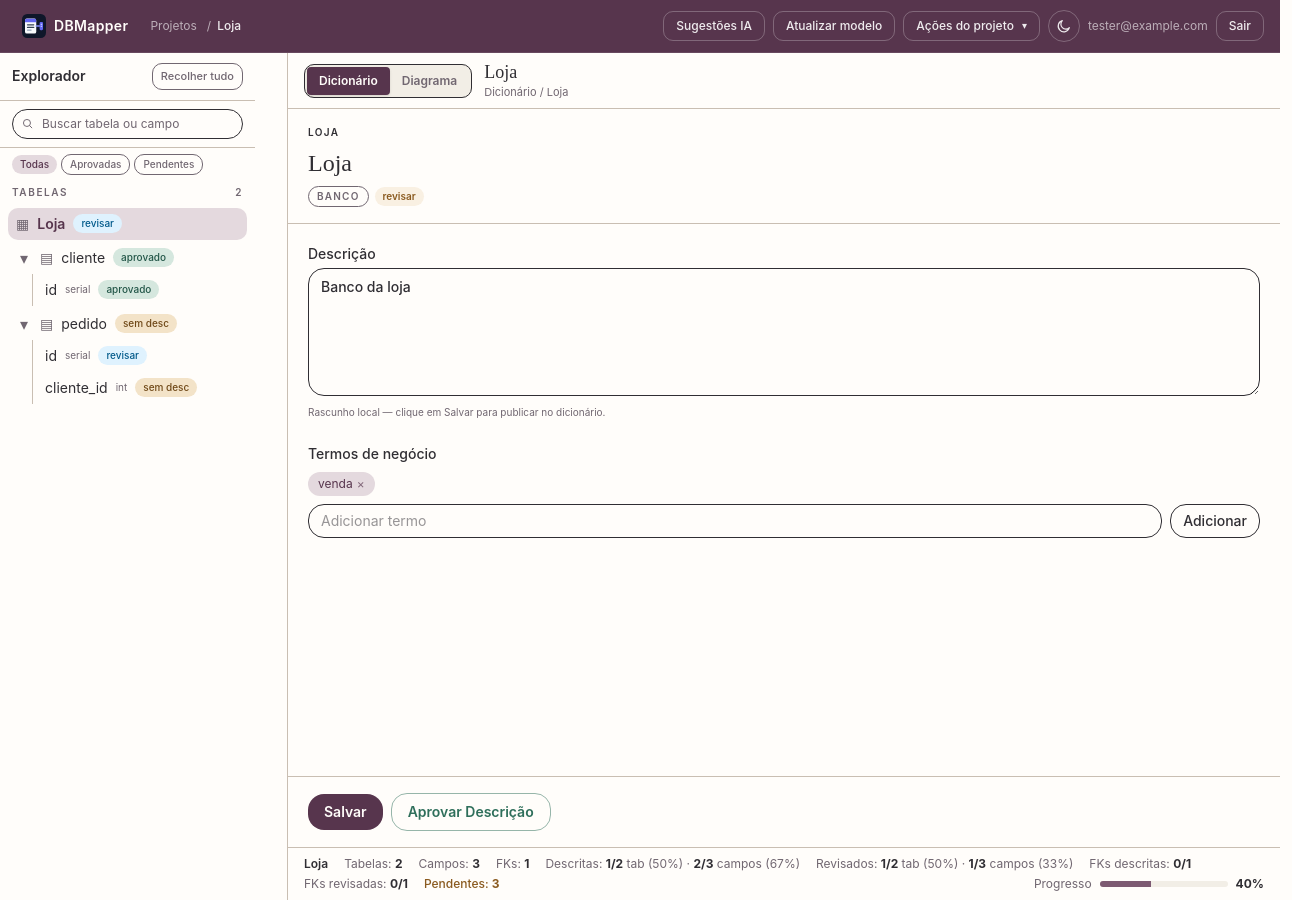
Scenario: WorkspacePage › alterna Editor/Diagrama mantendo o StatusBar e abre o editor na seleção
This screenshot has width=1292, height=900.
Check: the button with test id "table-row-cliente" is shown, box [40,242,247,274]
Click the button with test id "view-diagram". click: (430, 80)
box: [390,66,469,94]
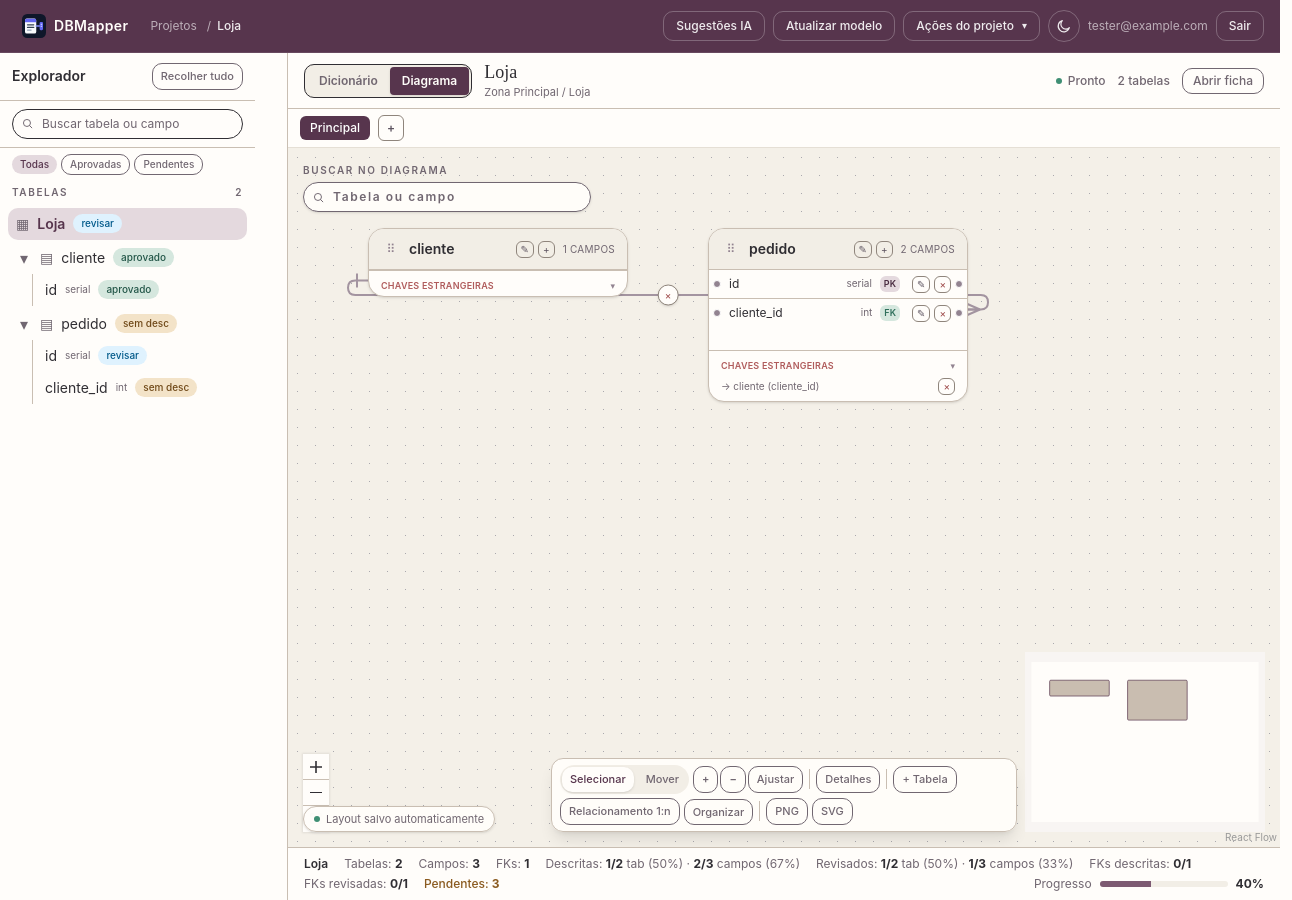
Check: the element with test id "coverage-tables" is shown, box [344,856,402,872]
Check: the element with test id "diagram-canvas" is shown
Click the button with test id "column-row-pedido-id". click: (142, 356)
box: [37,340,247,372]
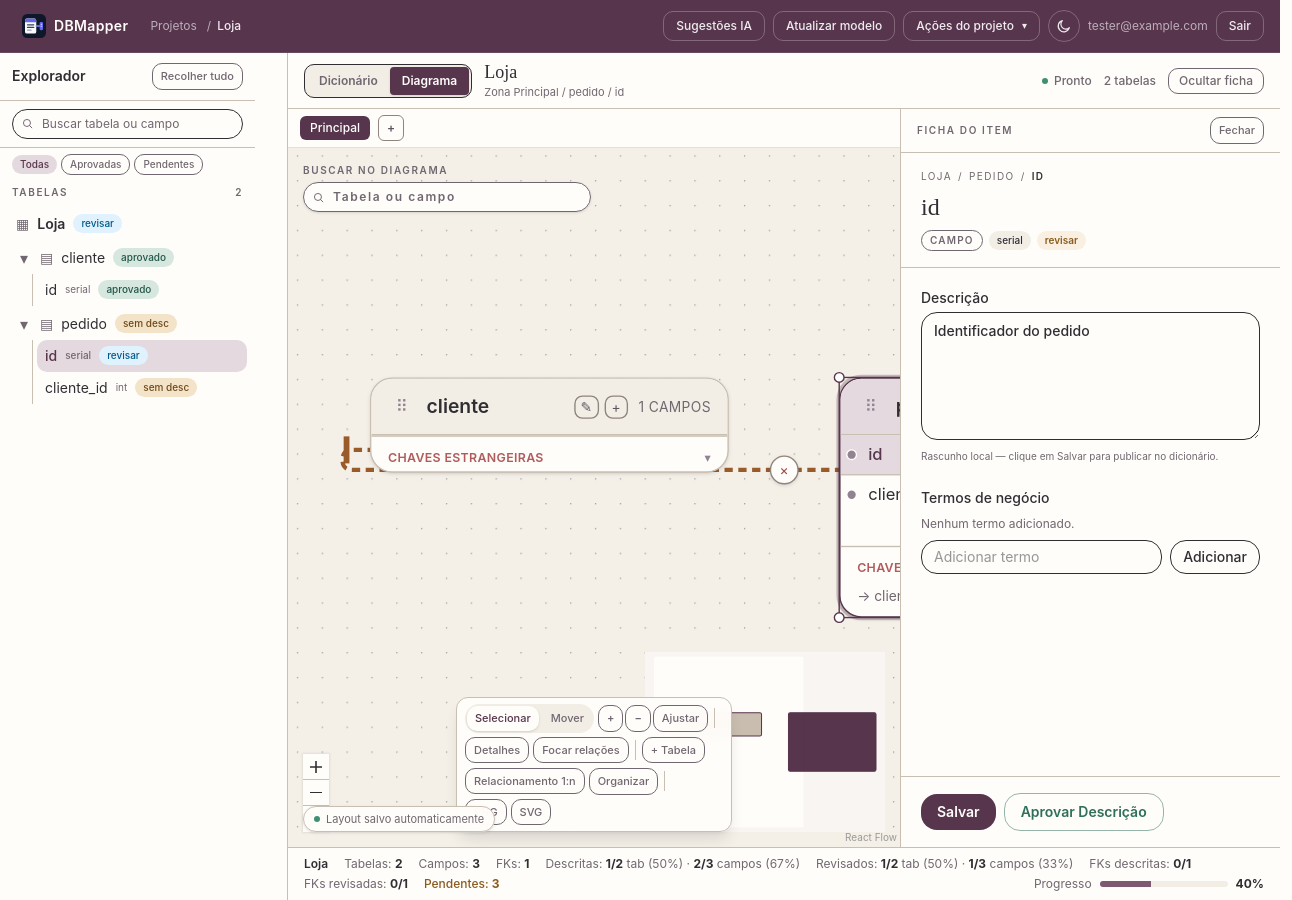
Check: the element with test id "diagram-editor-panel" is shown, box [900,109,1280,847]
Check: the text box labelled "Descrição" holds "Identificador do pedido", box [921,312,1260,440]
Click the button with test id "view-editor". click: (348, 80)
box: [307,66,390,94]
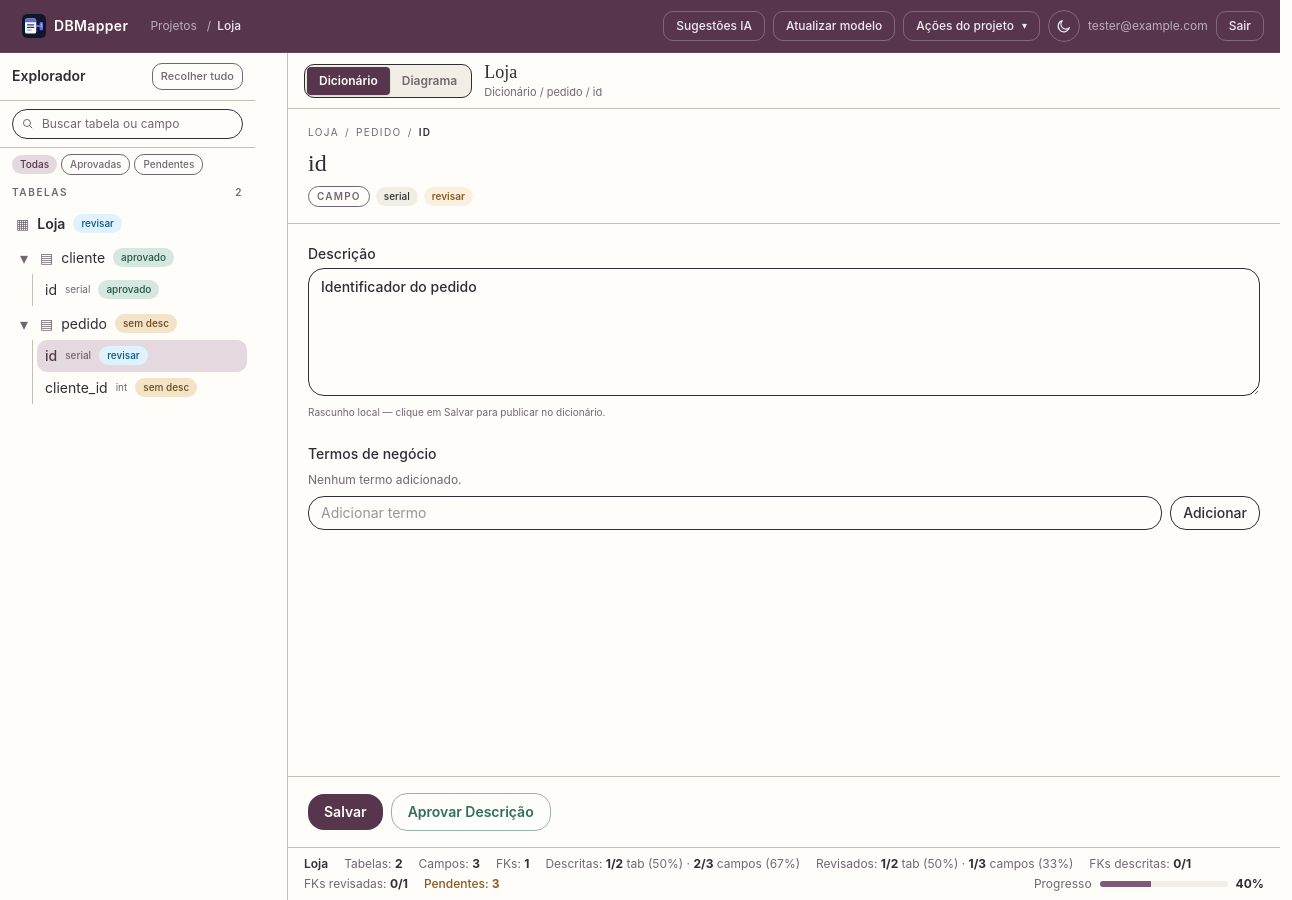
Check: the text box labelled "Descrição" holds "Identificador do pedido", box [308,268,1260,396]
Check: the element with test id "diagram-canvas" is gone
